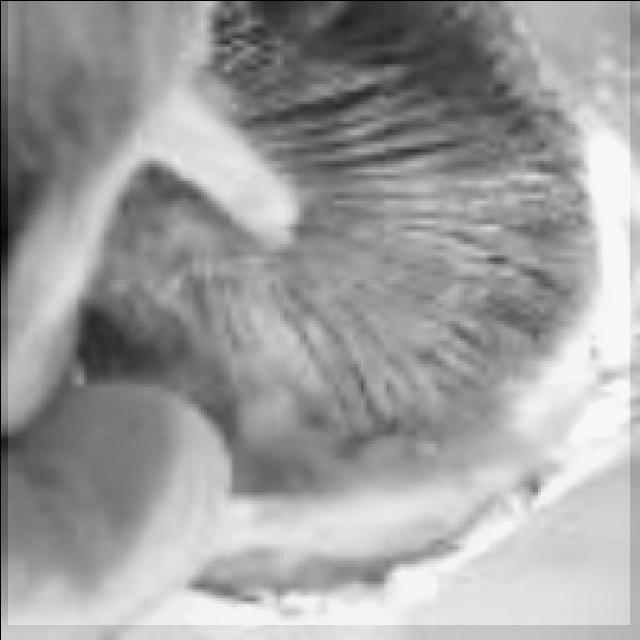Gill Disease: (7, 0, 629, 624)
